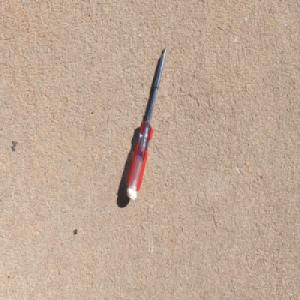Screwdriver: (126, 44, 167, 201)
